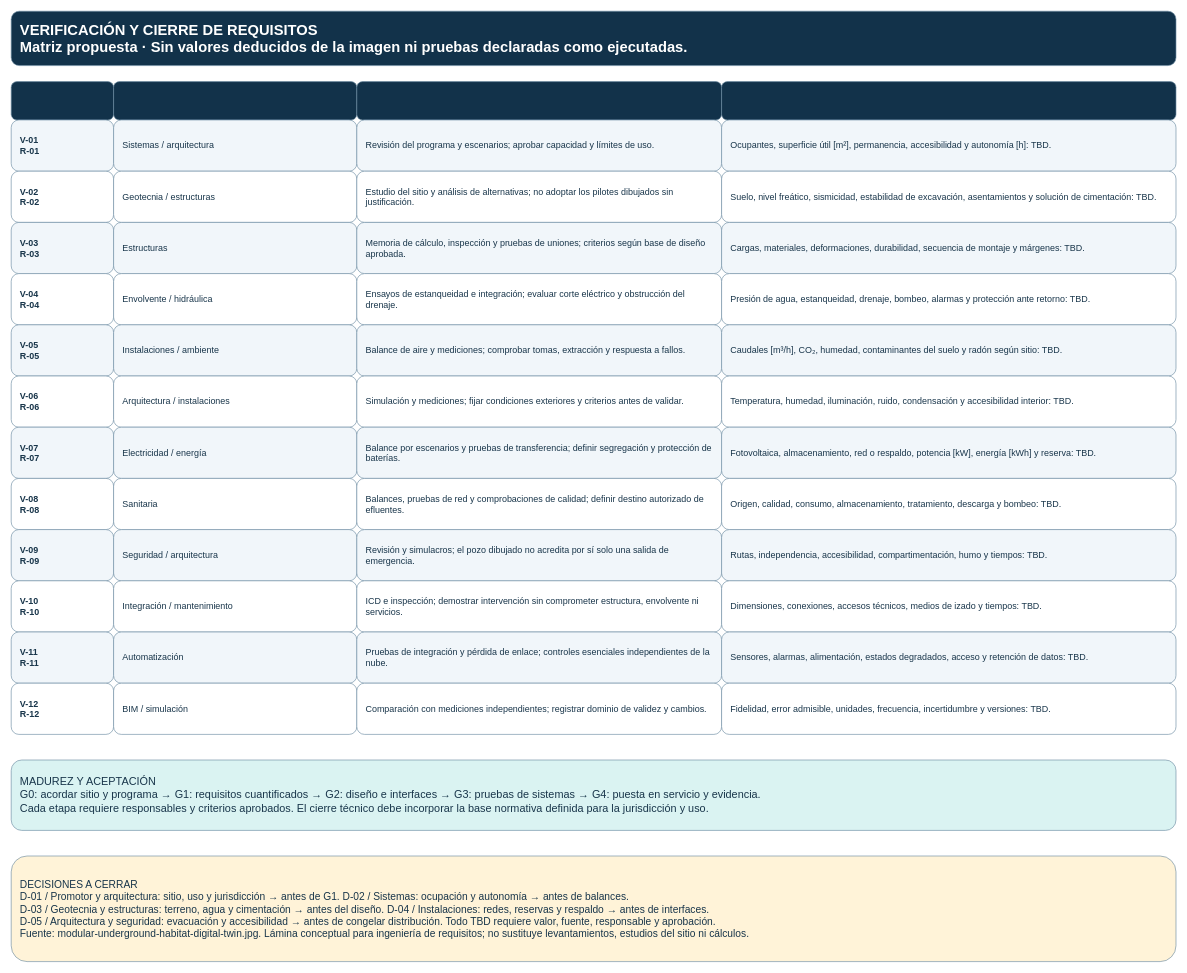
Image size: 1187x973. Some labels were removed from this diagram. Each missing label, with the centre of its shape:
Evidencia / método: pixel 539 100
ID: pixel 62 100
Parámetros y criterio pendiente: pixel 948 100
Responsable propuesto: pixel 235 100
